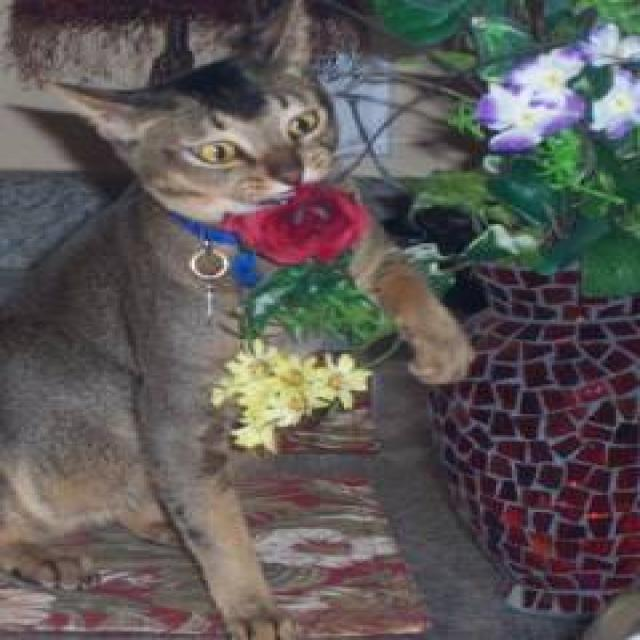Abyssinian: (61, 2, 344, 230)
